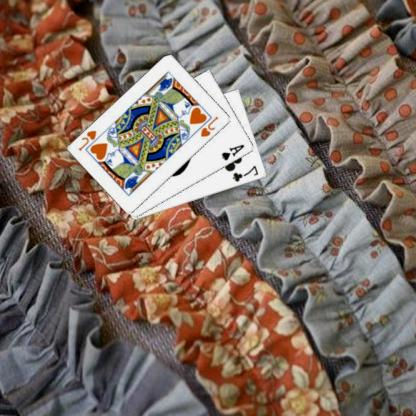7C: (232, 163, 262, 183)
AS: (221, 142, 248, 162)
JH: (77, 128, 100, 152), (200, 113, 222, 138)
